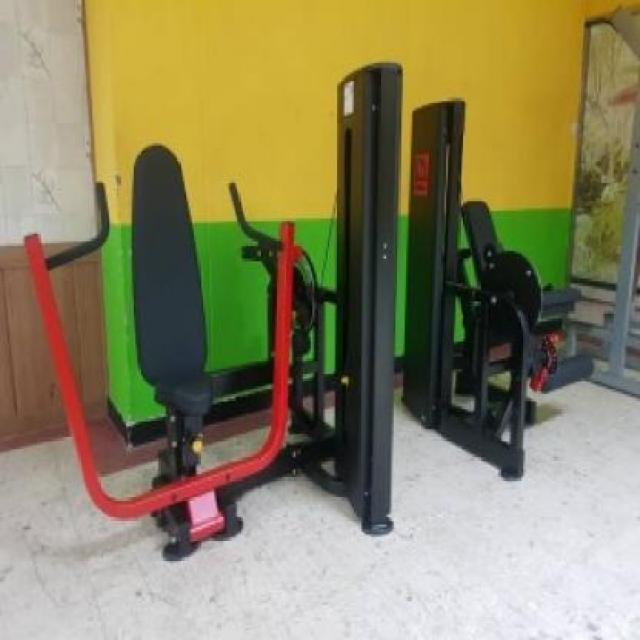Chest Press machine: (25, 44, 408, 596)
